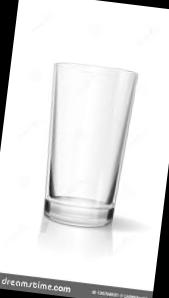glass: (15, 44, 165, 244)
